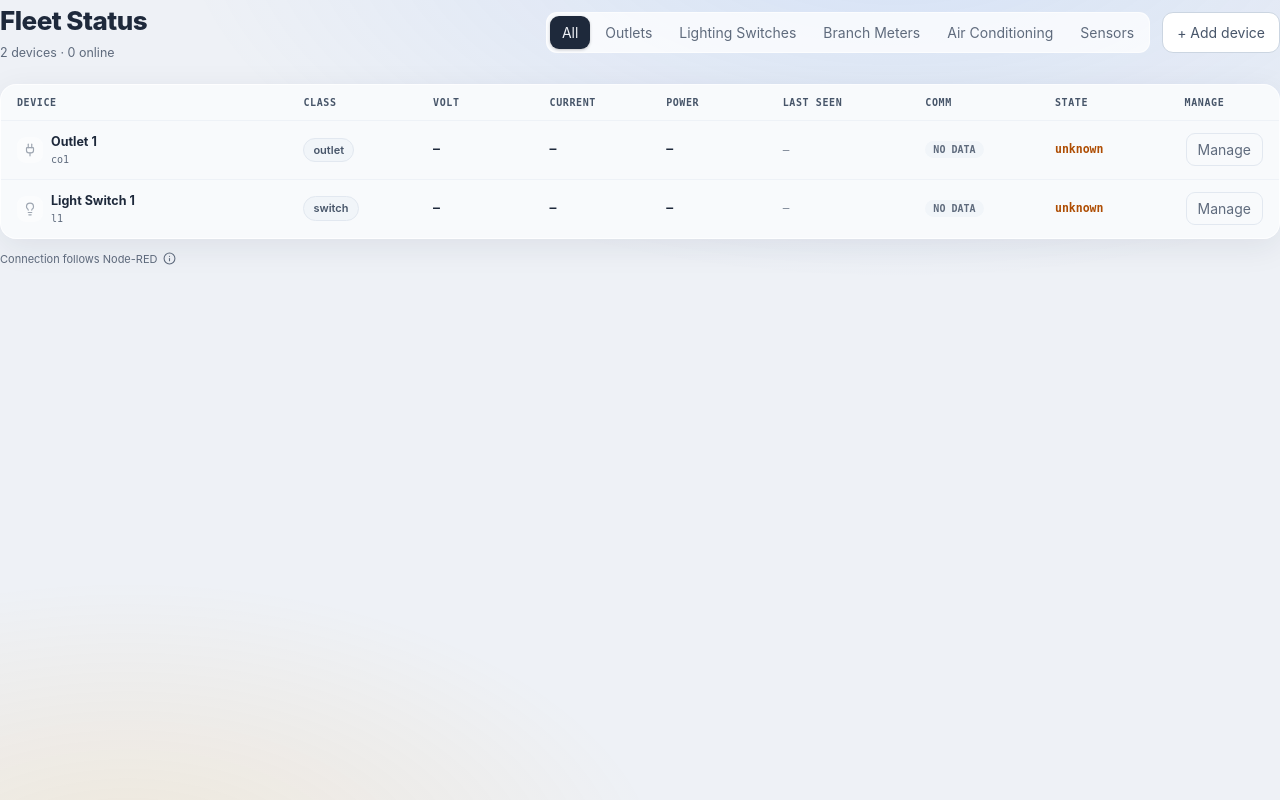
Scenario: DevicesView › opens the panel for the row whose button was clicked
Click the button with aria-label "Manage Light Switch 1" at point(1224, 209), box [1186,192,1263,225]
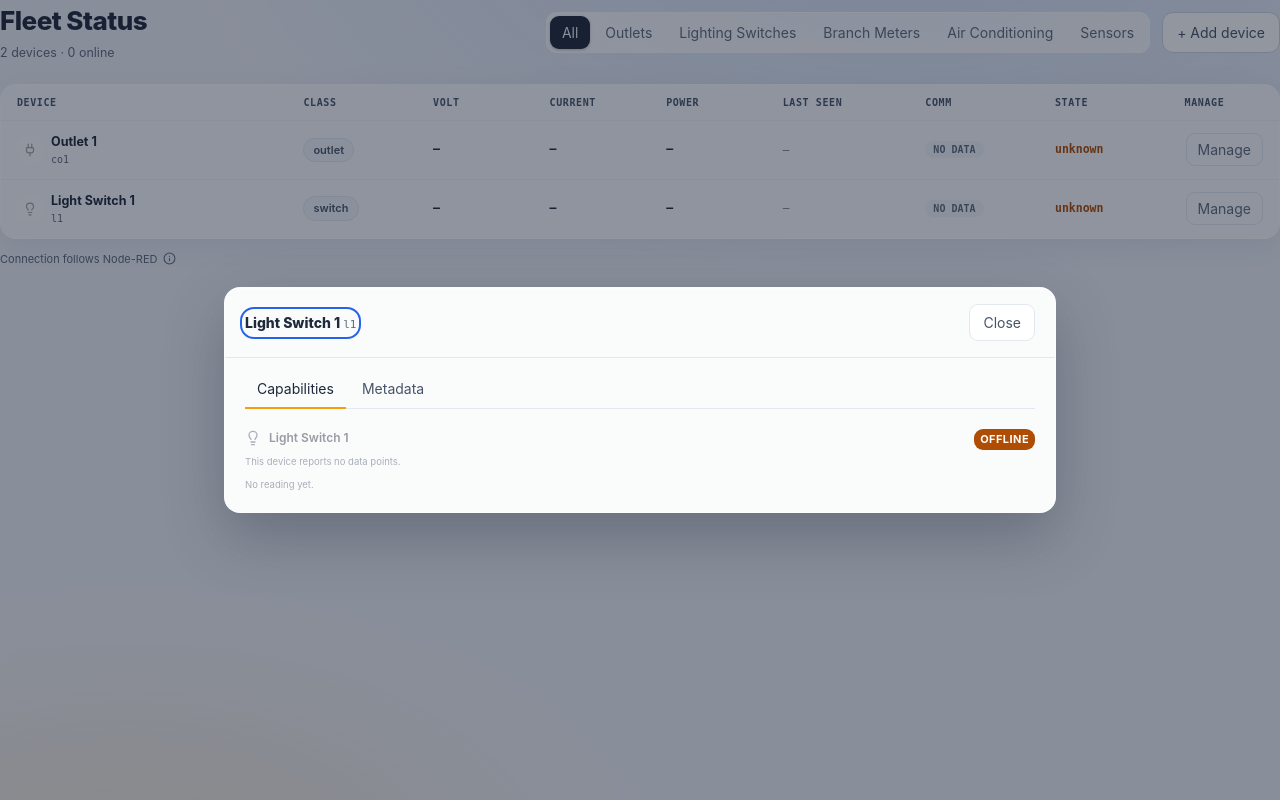
Now the heading "Light Switch 1 l1" is shown, box [245,312,356,334]
Now the tab "Capabilities" is shown, box [245,370,346,409]
Now the tab "Metadata" is shown, box [350,370,436,409]
